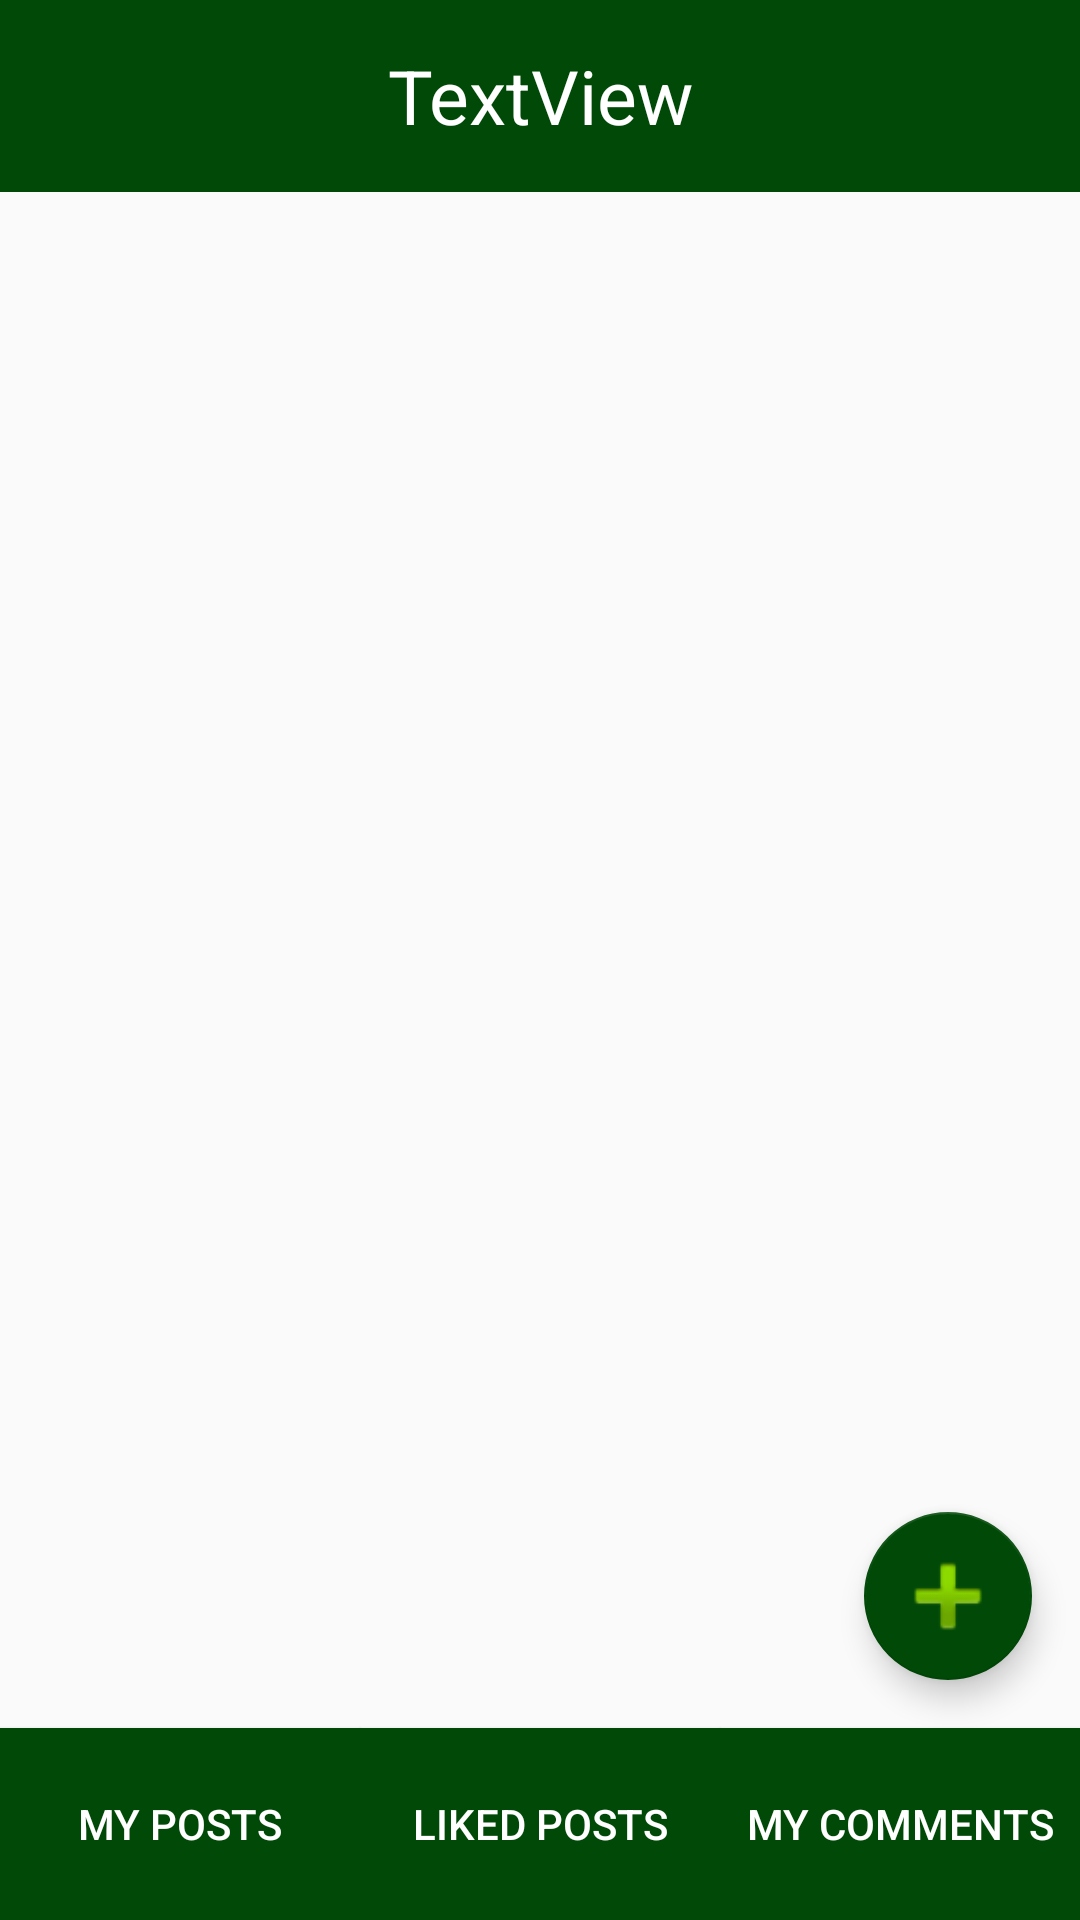

Icons on this 1080×1920 Android screen, each with the point to tap as [x,y]:
Add the post: [948,1596]
